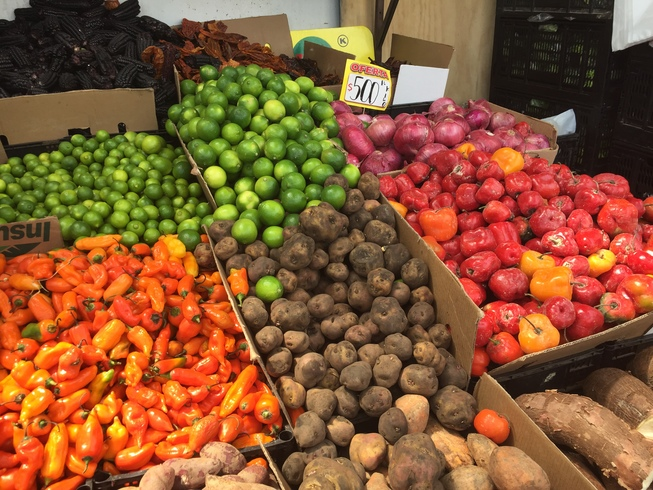precio: (335, 55, 400, 119)
